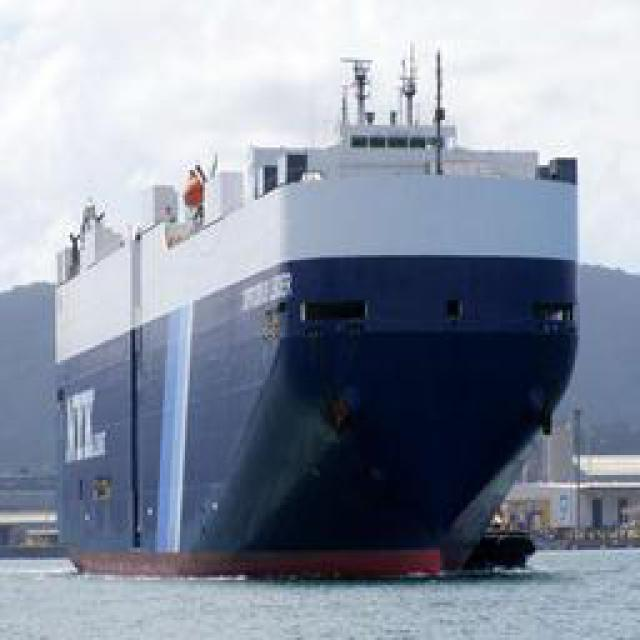Ship: (46, 46, 594, 590)
